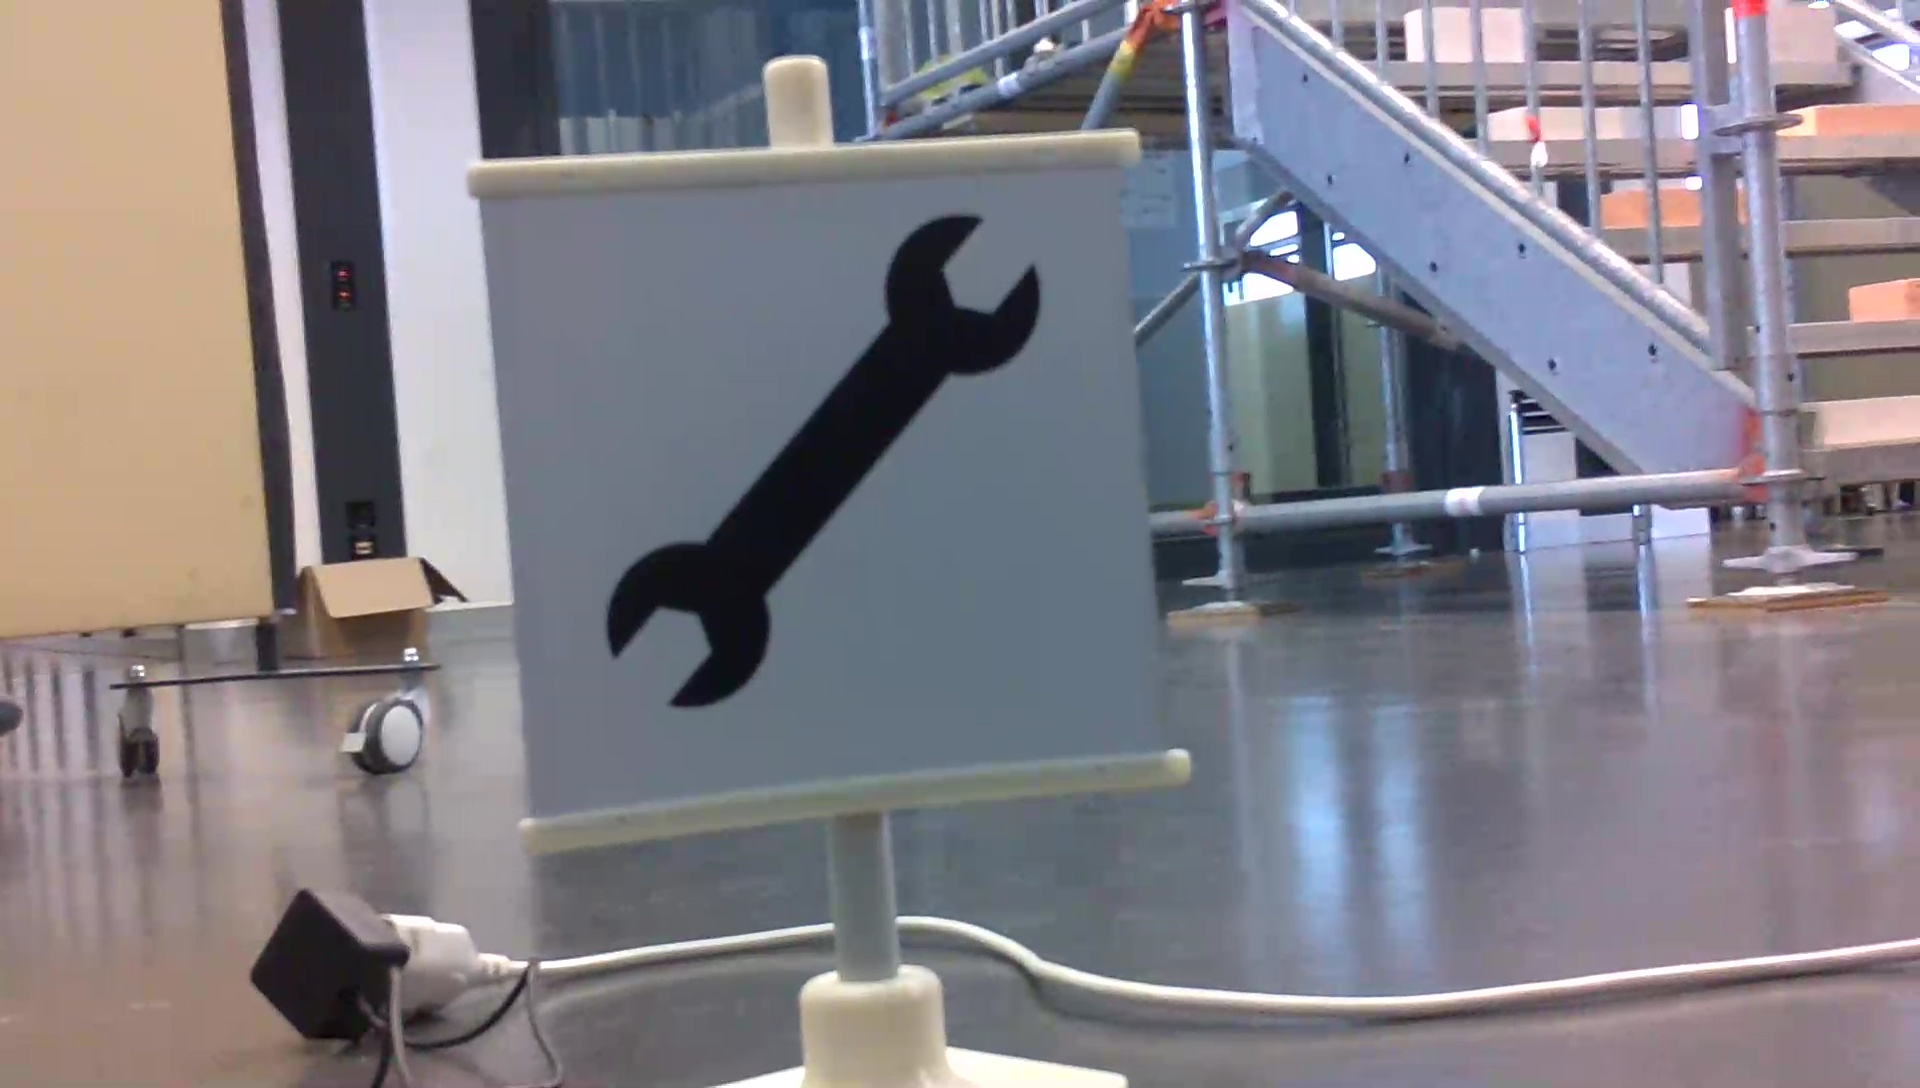brick: (1816, 393, 1920, 444), (1793, 106, 1920, 135), (1766, 5, 1832, 61), (1847, 276, 1920, 320)
wrench: (591, 200, 1058, 721)
